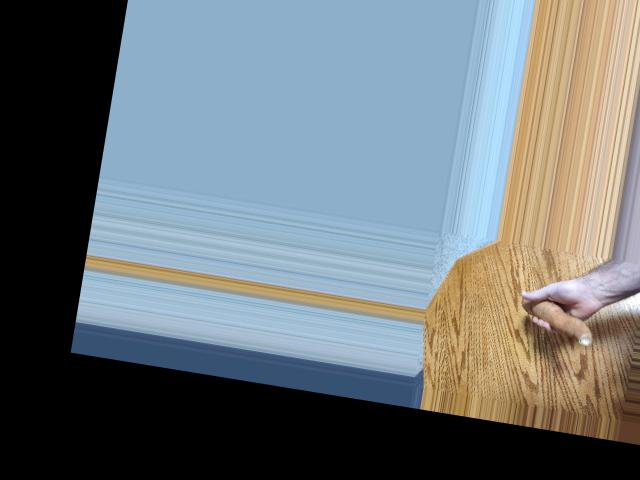sweet_potato: (518, 293, 601, 346)
